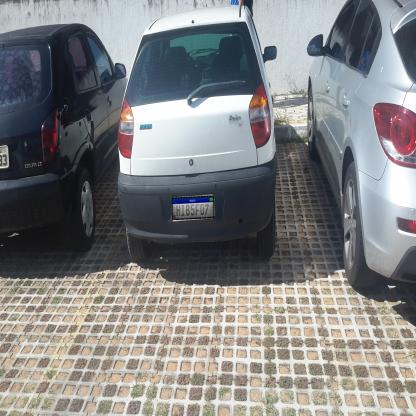PlacaM: (172, 196, 214, 220)
